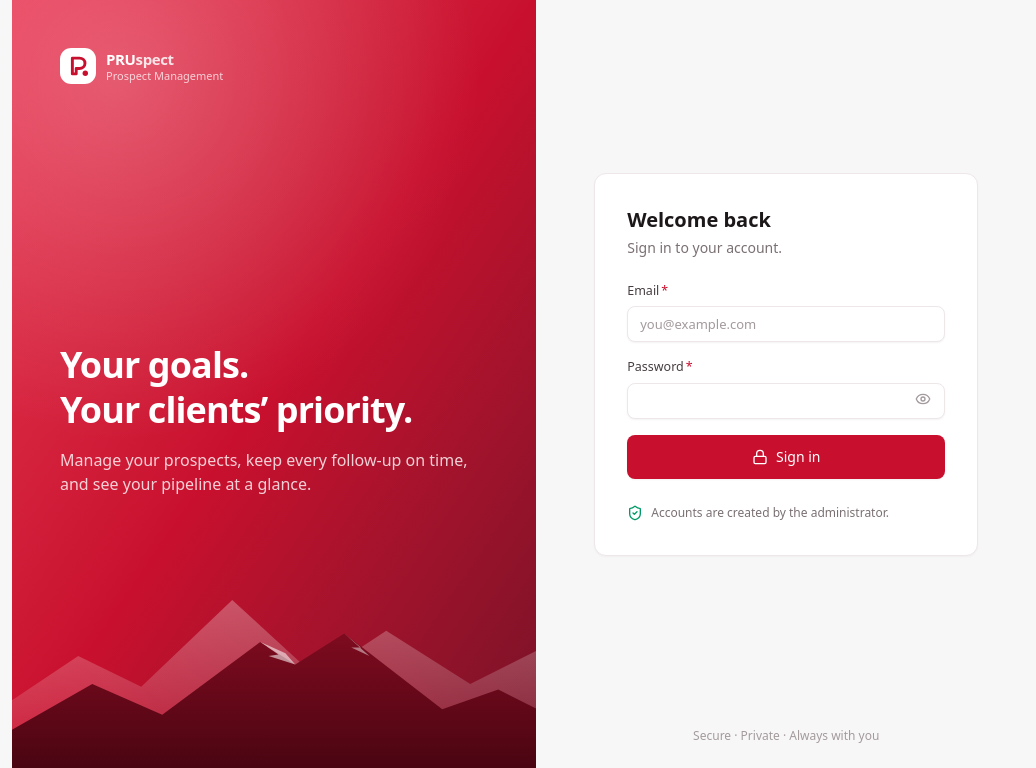
Test case: login page › shows the server error for wrong credentials
Type "a@example.com" into the field labelled "Email*" at (786, 324), box [627,306,945,342]
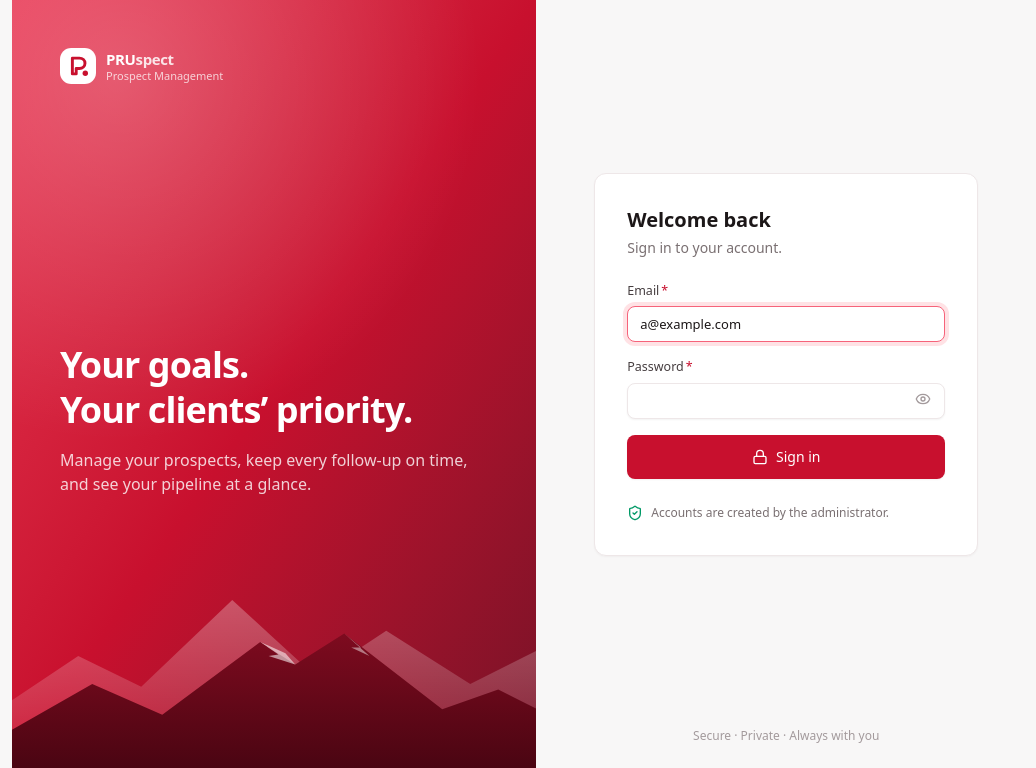
Type "wrong-pass" into the password field labelled "Password*" at (786, 401), box [627,383,945,419]
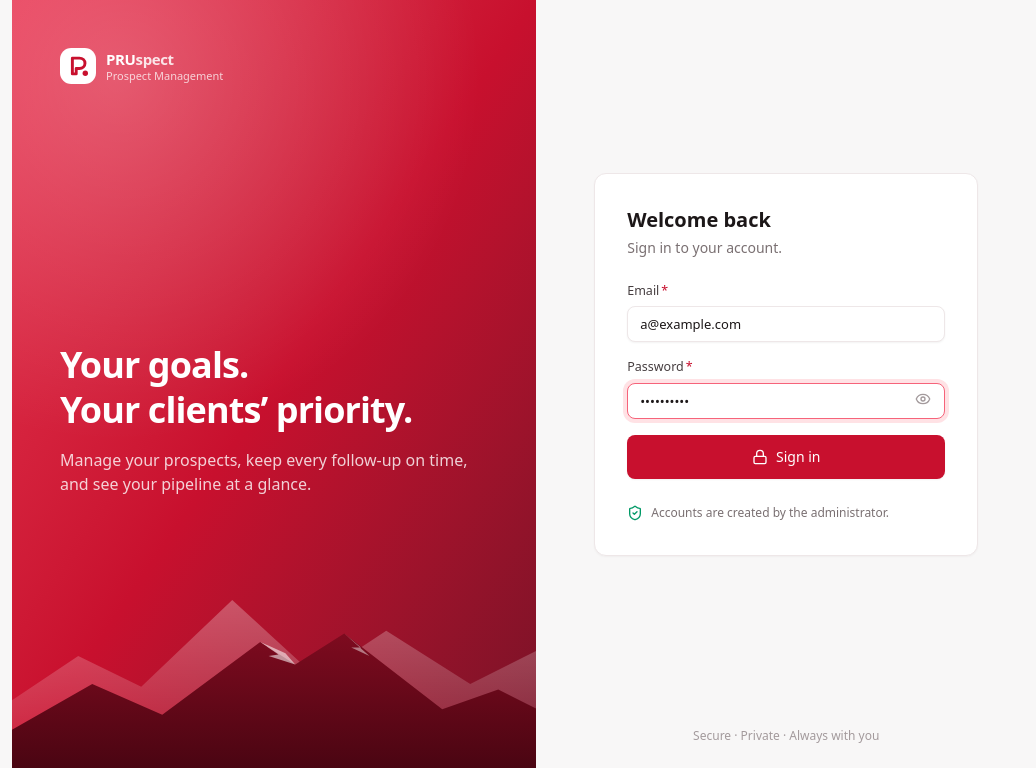
Click the button "Sign in" at (786, 457), box [627,435,945,479]
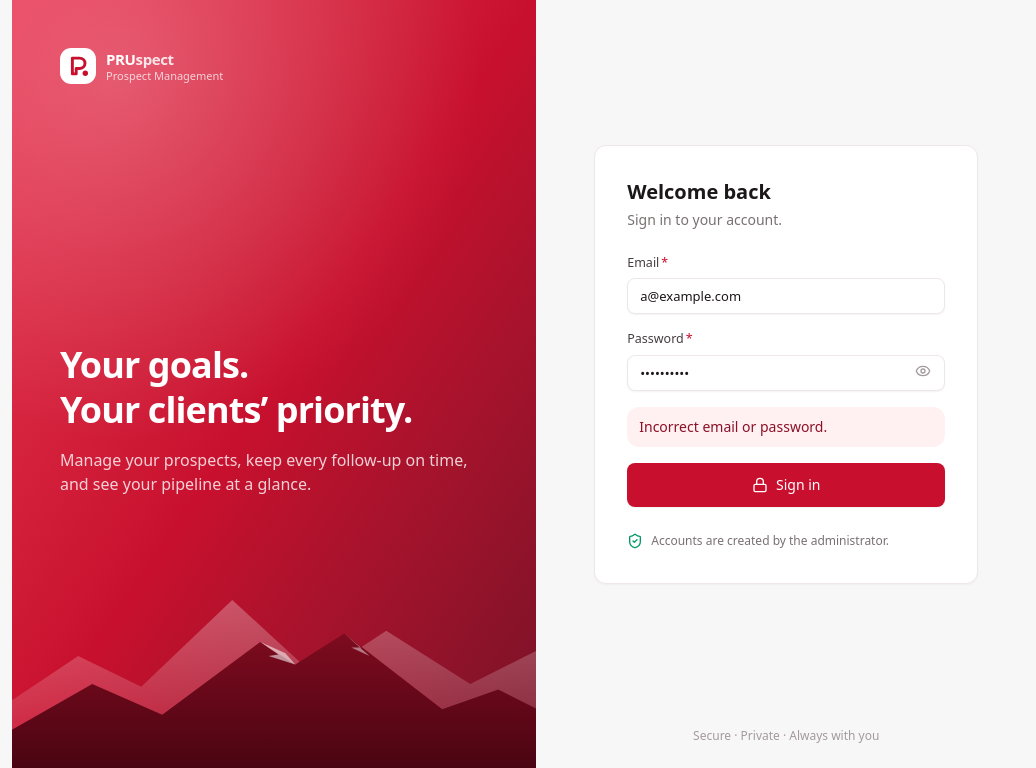
Now the message reads "Incorrect email or password.", box [639,417,827,436]
